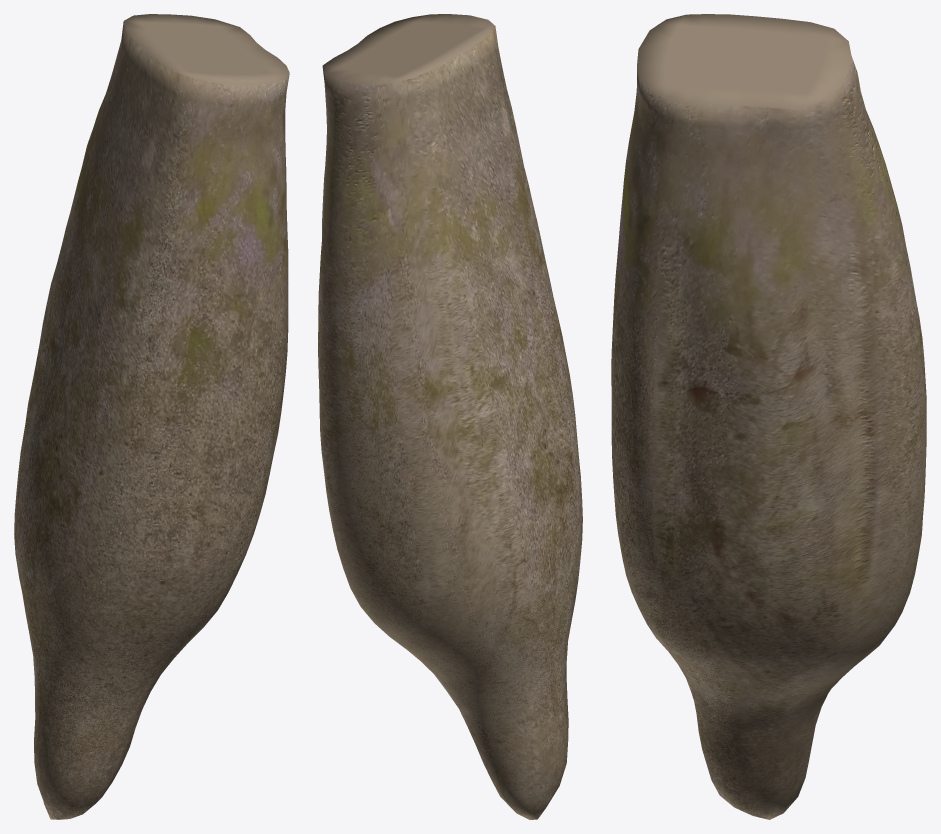
Rendered from Granite_sculpture_Penguin.glb.
The picture shows the model from 3 angles, left to right: view 1: azimuth 30°, elevation 25°; view 2: azimuth 150°, elevation 25°; view 3: azimuth 270°, elevation 25°; orthographic projection. The views are drawn at different scales.
Parts seen in each view (by area): view 1: low poly_Material.001_0; view 2: low poly_Material.001_0; view 3: low poly_Material.001_0.
Boxes of the visible parts, left/top/right/bottom form: low poly_Material.001_0: left=14, top=14, right=289, bottom=819; low poly_Material.001_0: left=318, top=14, right=582, bottom=819; low poly_Material.001_0: left=611, top=14, right=926, bottom=819.
Bounding box in the file's own units: 1.92 × 6.1 × 2.06.
1 material, 1 textured.
